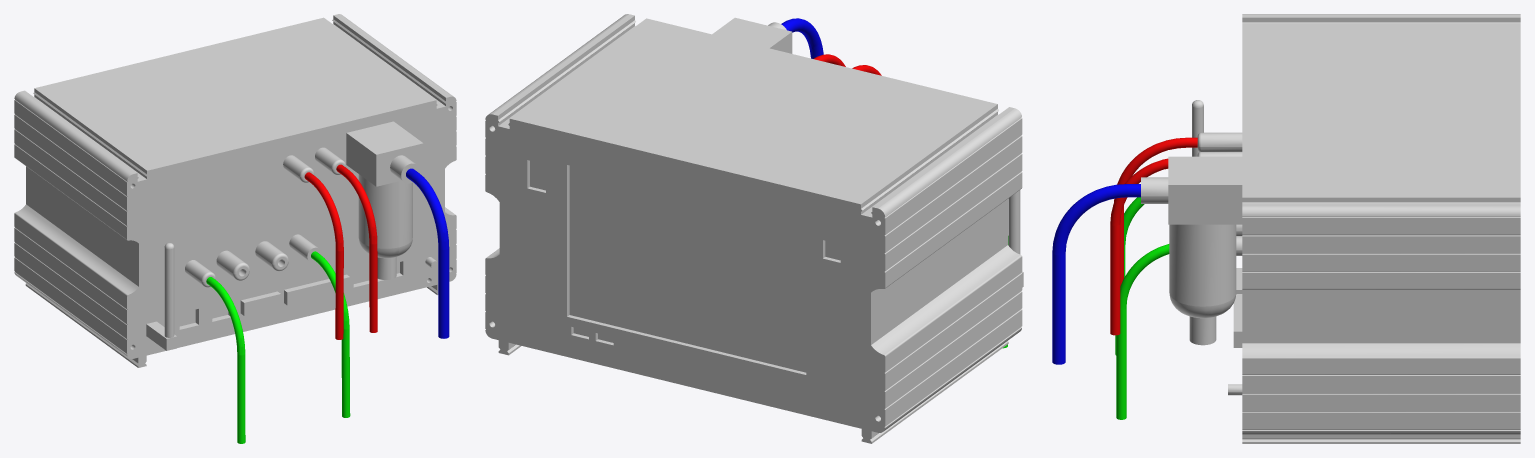
3 renders of one model, left to right at view 1: azimuth 30°, elevation 25°; view 2: azimuth 150°, elevation 25°; view 3: azimuth 270°, elevation 25°, orthographic. The views are drawn at different scales.
Parts seen in each view (by area): view 1: KD300_3, 8mm_hortum, 6mm_hortum_3, 6mm_hortum, 6mm_hortum_5, 6mm_hortum_7; view 2: KD300_3, 8mm_hortum; view 3: KD300_3, 8mm_hortum, 6mm_hortum_3, 6mm_hortum_7, 6mm_hortum.
Boxes of the visible parts, x1,y1,x2,y2 form: KD300_3: (14,14,456,367); 8mm_hortum: (406,168,449,338); 6mm_hortum_3: (336,164,377,332); 6mm_hortum: (304,172,343,339); 6mm_hortum_5: (206,277,245,443); 6mm_hortum_7: (311,251,350,417); KD300_3: (485,14,1023,443); 8mm_hortum: (781,18,823,58); KD300_3: (1141,14,1520,443); 8mm_hortum: (1052,184,1140,364); 6mm_hortum_3: (1110,158,1168,335); 6mm_hortum_7: (1116,244,1169,419); 6mm_hortum: (1114,137,1197,285).
Bounding box in the file's own units: 280 × 200 × 279.
